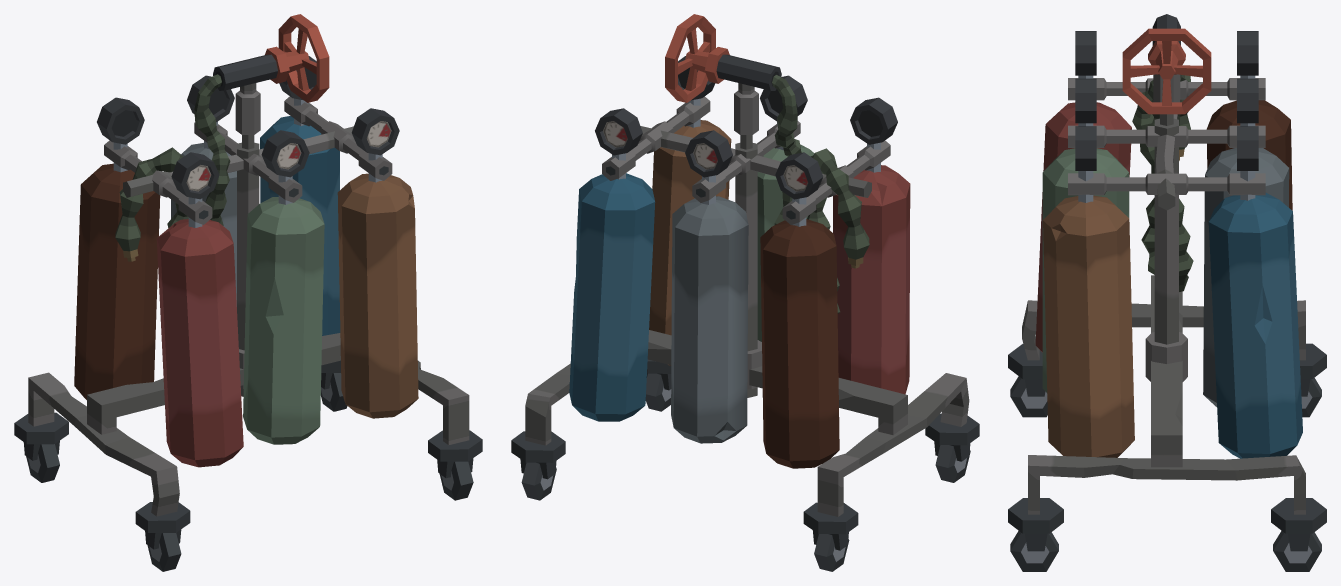
The model's file is SM_Prop_Gas_Trolley_01.fbx.
3 renders of one model, left to right at view 1: azimuth 30°, elevation 25°; view 2: azimuth 150°, elevation 25°; view 3: azimuth 270°, elevation 25°, orthographic. The views are drawn at different scales.
Visible parts, largest first — view 1: SM_Prop_Gas_Trolley_01; view 2: SM_Prop_Gas_Trolley_01; view 3: SM_Prop_Gas_Trolley_01.
Part boxes in pixels (<box>): SM_Prop_Gas_Trolley_01: <box>14,14,482,571</box>; SM_Prop_Gas_Trolley_01: <box>511,14,979,571</box>; SM_Prop_Gas_Trolley_01: <box>1008,14,1326,571</box>.
Bounding box in the file's own units: 103 × 133 × 78.45.
